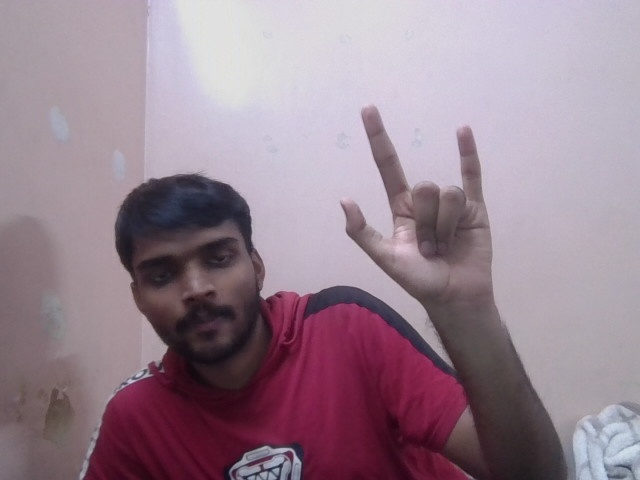I Love You: (340, 95, 510, 295)
